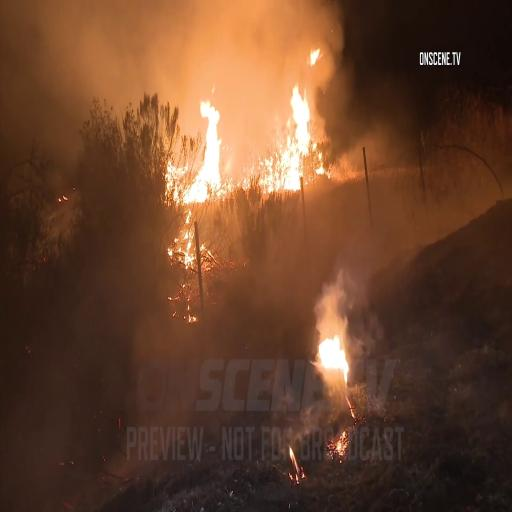fire: (173, 94, 229, 198), (268, 75, 316, 180)
smoke: (10, 0, 257, 91)
